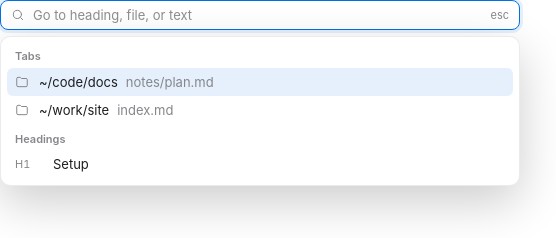
Scenario: ⌘K and tabs › a file open in another tab shows once, under Tabs, marked open
Type "plan" into the dropdown at [258, 15], box [33,7,482,23]
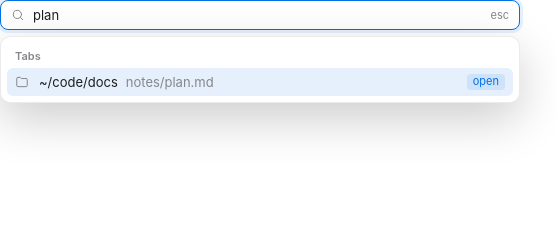
Expected: the option shows "open", [7,68,513,96]
